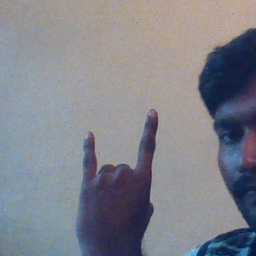V: (75, 108, 168, 255)
